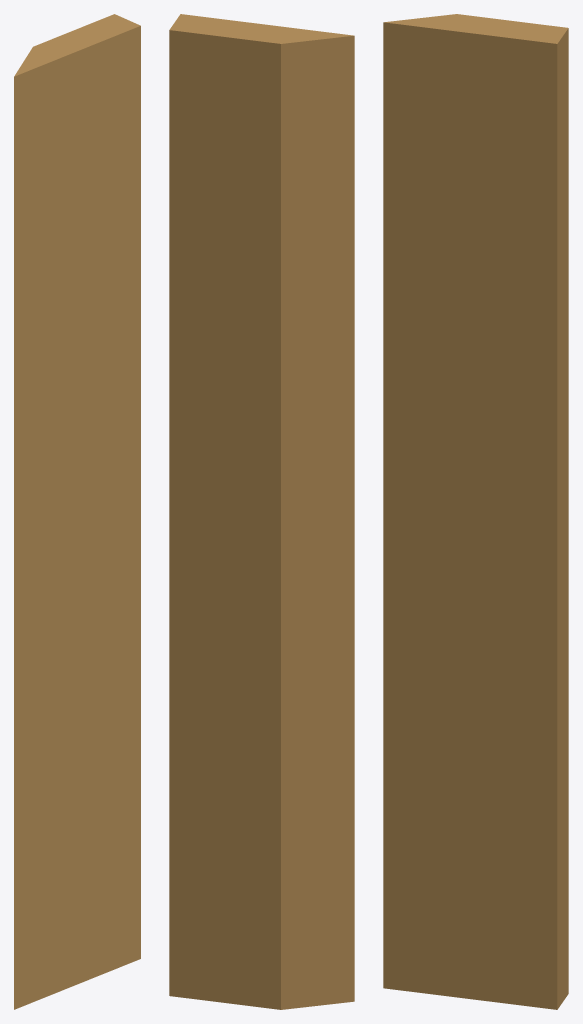
3 renders of one model, left to right at view 1: azimuth 30°, elevation 25°; view 2: azimuth 150°, elevation 25°; view 3: azimuth 330°, elevation 25°, orthographic. The views are drawn at different scales.
Visible parts, largest first — view 1: FF-W045; view 2: FF-W045; view 3: FF-W045.
Part boxes in pixels (box(x1,y1,x2,y2)): FF-W045: box(14, 14, 140, 1009); FF-W045: box(169, 14, 354, 1009); FF-W045: box(383, 14, 568, 1009).
Bounding box in the file's own units: 0.4005 × 2.42 × 0.1842.
